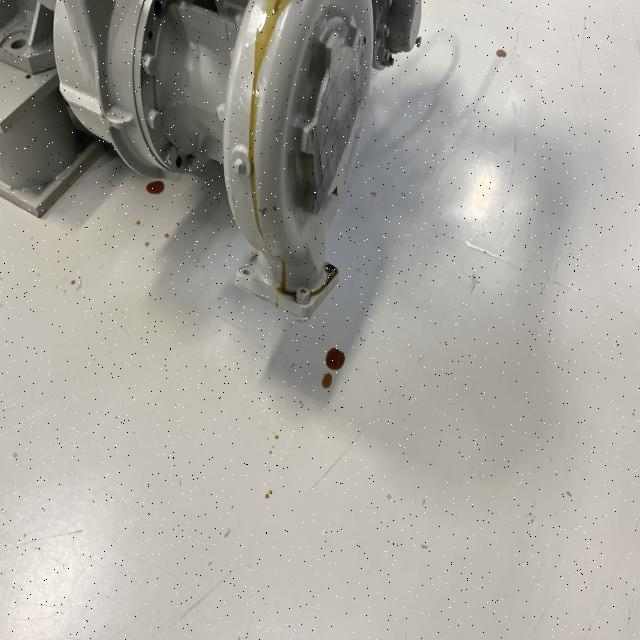Oil Leak: (233, 0, 291, 240), (307, 262, 340, 304), (322, 345, 348, 373), (275, 282, 300, 305), (146, 180, 165, 194), (320, 372, 334, 390), (496, 48, 507, 58), (335, 352, 339, 358)
